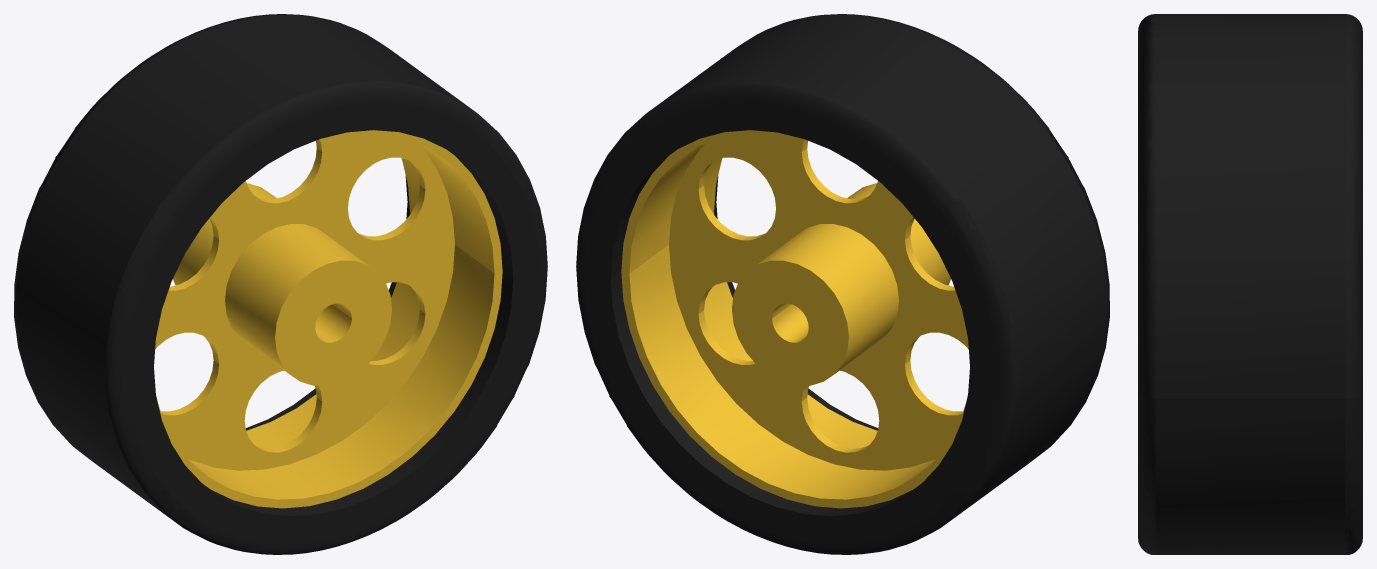
File: wheels-65mm-pair.glb
3 views of the same model, side by side, from view 1: azimuth 30°, elevation 25°; view 2: azimuth 150°, elevation 25°; view 3: azimuth 270°, elevation 25° (orthographic). The views are drawn at different scales.
Visible parts, largest first — view 1: tyre, rim; view 2: tyre, rim; view 3: tyre.
Boxes of the visible parts, left/top/right/bottom form: tyre: left=14, top=14, right=547, bottom=554; rim: left=155, top=130, right=502, bottom=508; tyre: left=576, top=14, right=1109, bottom=554; rim: left=621, top=130, right=968, bottom=508; tyre: left=1138, top=14, right=1362, bottom=554.
Size of the model in its own units: 64.93 by 64.96 by 27.
